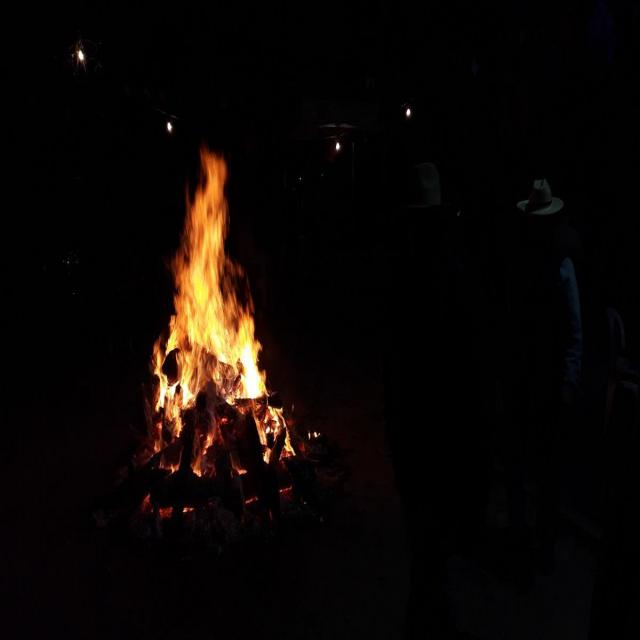fire: (141, 147, 278, 456)
